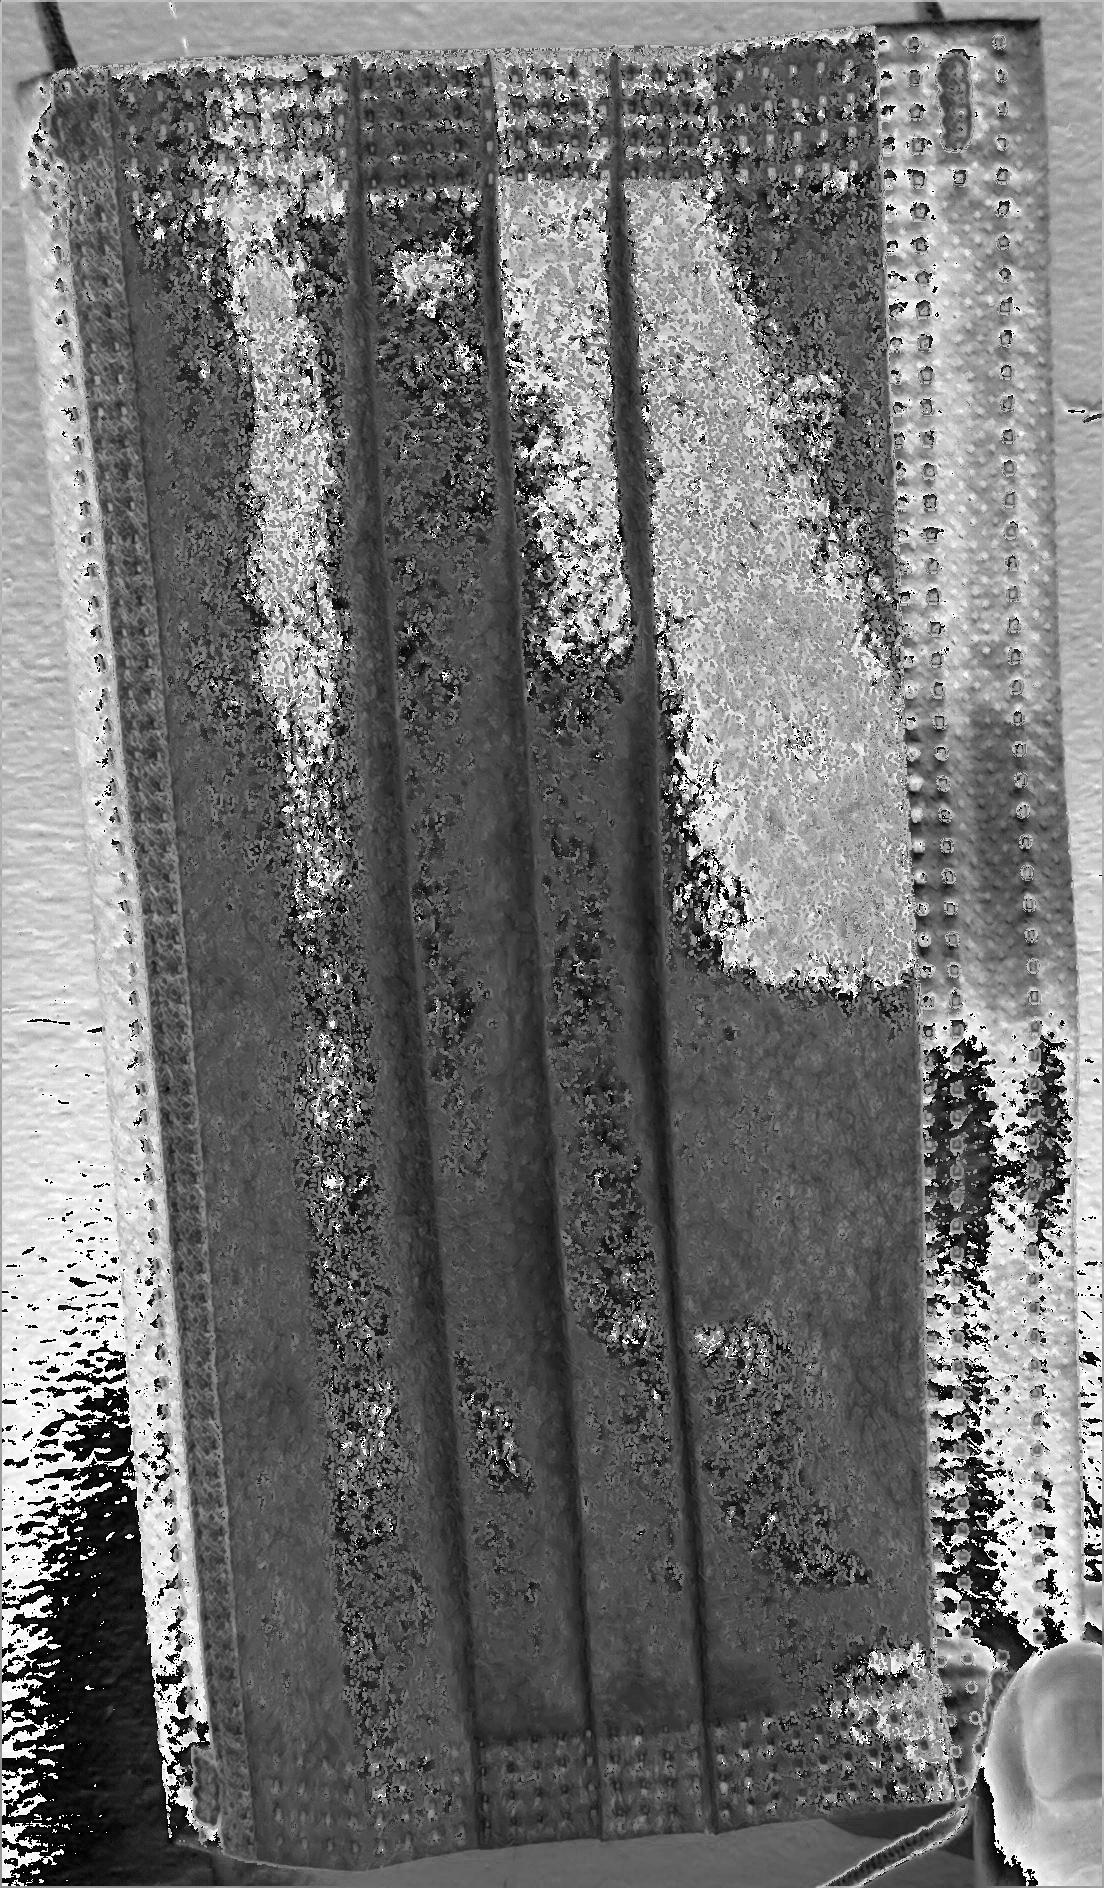Low GSM: (302, 188, 860, 1715)
Undefined Area: (952, 1627, 1101, 1888)
